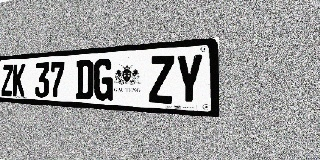3: (35, 62, 49, 98)
7: (49, 61, 65, 99)
D: (76, 60, 94, 100)
G: (94, 58, 113, 101)
K: (13, 63, 26, 97)
Y: (175, 53, 204, 105)
Z: (149, 55, 174, 104), (1, 64, 13, 96)
